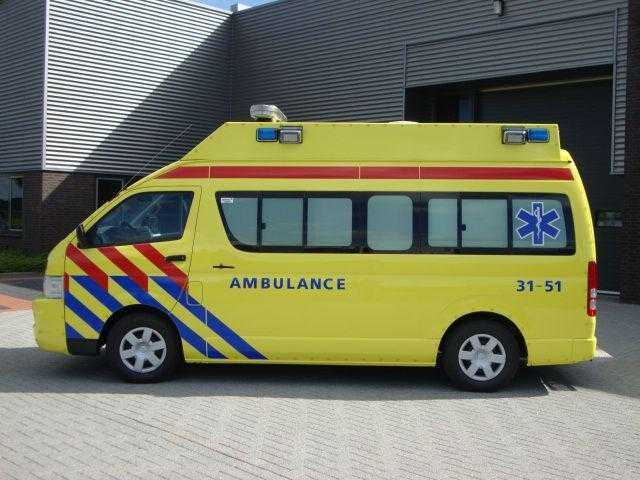Ambulance: (41, 99, 595, 391)
